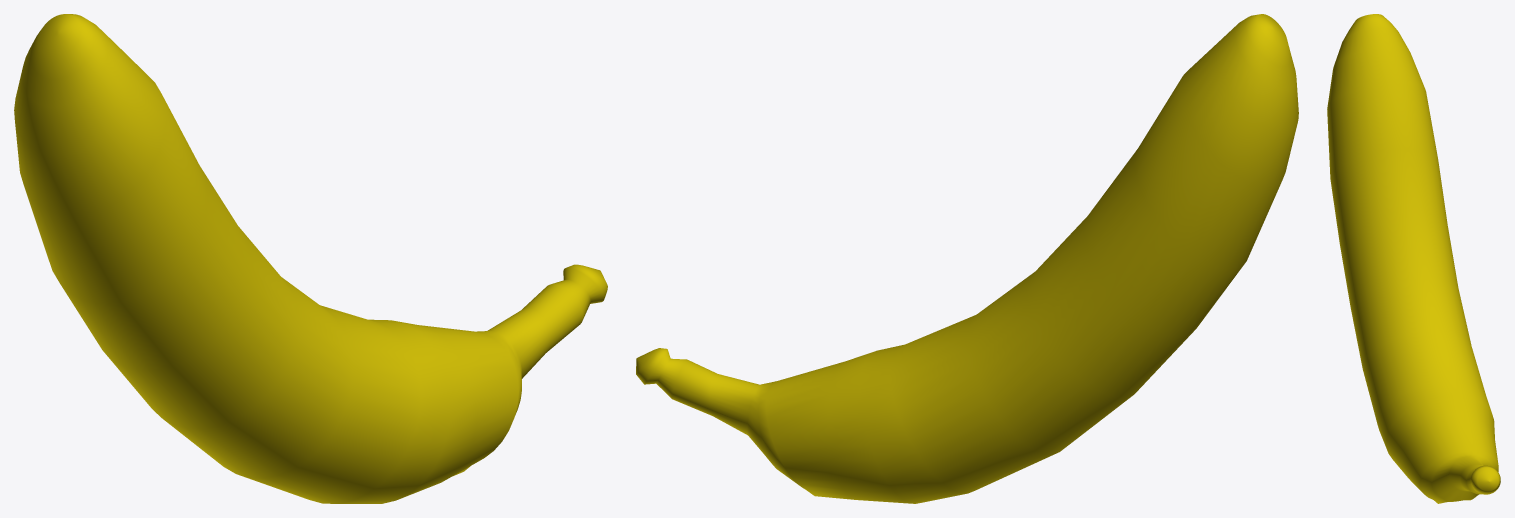
Rendered from banana.fbx.
3 views of the same model, side by side, from view 1: azimuth 30°, elevation 25°; view 2: azimuth 150°, elevation 25°; view 3: azimuth 270°, elevation 25° (orthographic). The views are drawn at different scales.
Visible parts, largest first — view 1: Cylinder; view 2: Cylinder; view 3: Cylinder.
Boxes of the visible parts, x1,y1,x2,y2 form: Cylinder: (14, 14, 607, 503); Cylinder: (636, 14, 1298, 503); Cylinder: (1327, 14, 1500, 503).
Size of the model in its own units: 8.37 by 7.28 by 3.17.
